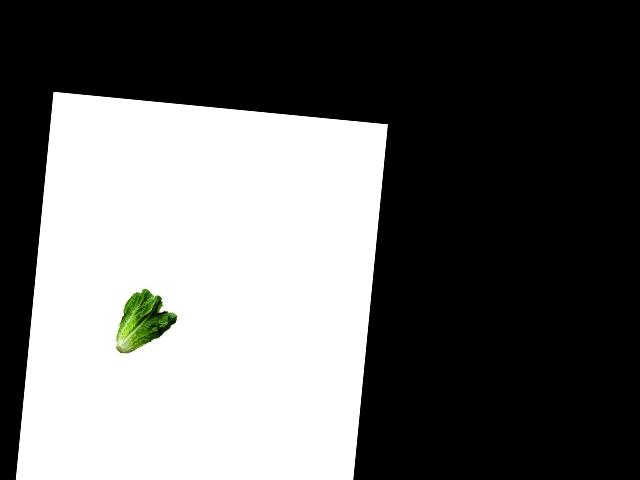lettuce: (109, 286, 181, 362)
